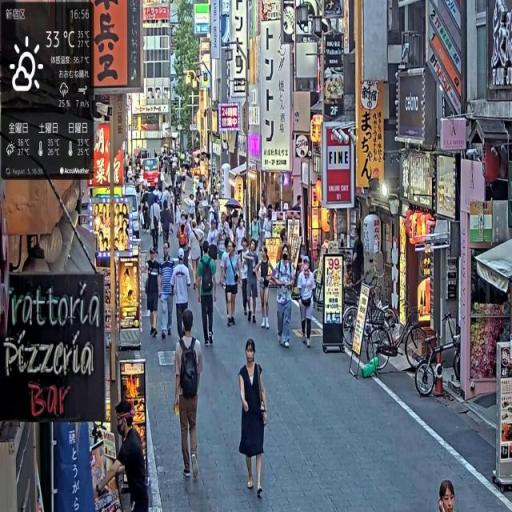person: (173, 310, 205, 487), (101, 400, 149, 512), (239, 337, 270, 503), (273, 244, 296, 352), (197, 242, 218, 352), (171, 251, 194, 348), (221, 239, 242, 330), (297, 258, 317, 351), (159, 247, 177, 340), (245, 239, 262, 326), (146, 248, 162, 340), (259, 244, 273, 331), (151, 197, 162, 254)
